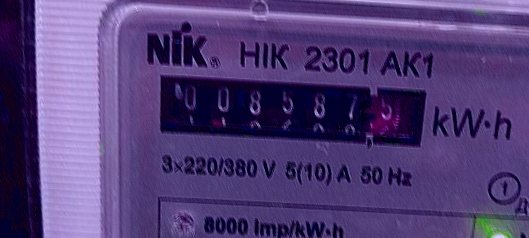0: (178, 80, 197, 110), (212, 83, 231, 112)
5: (376, 93, 395, 123), (276, 86, 295, 115)
7: (340, 89, 359, 120)
8: (308, 88, 327, 119), (244, 86, 262, 115)
screen: (136, 58, 443, 159)
